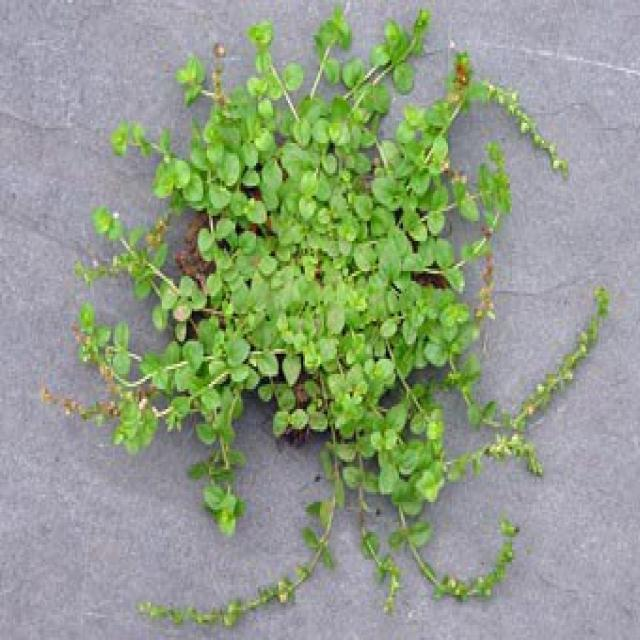plant: (113, 8, 556, 599)
